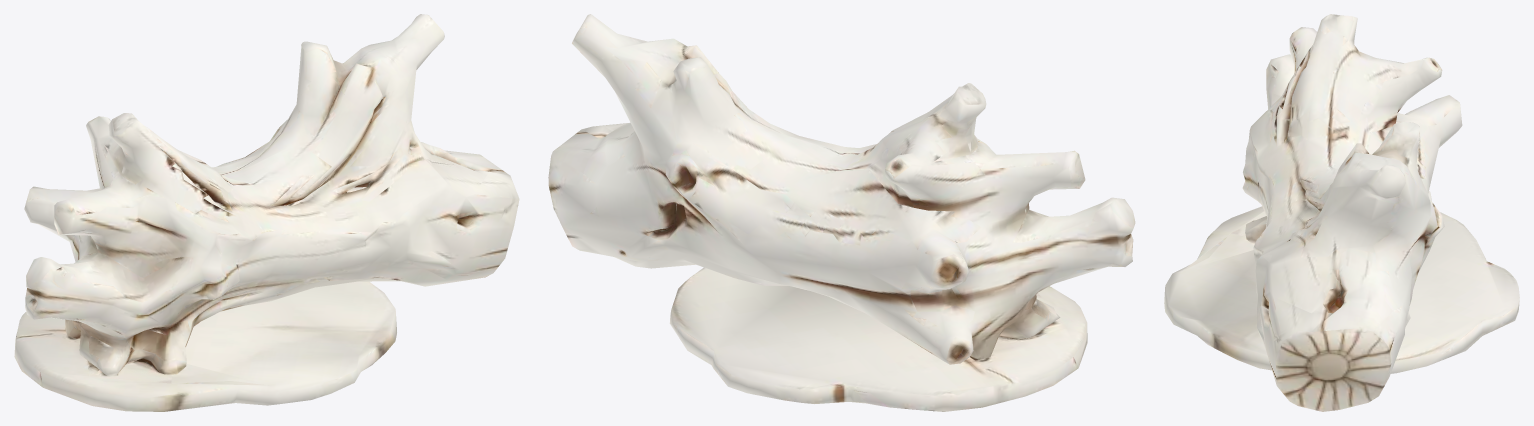
Rendered from driftwood.glb.
The picture shows the model from 3 angles, left to right: view 1: azimuth 30°, elevation 25°; view 2: azimuth 150°, elevation 25°; view 3: azimuth 270°, elevation 25°; orthographic projection. The views are drawn at different scales.
Parts seen in each view (by area): view 1: 0; view 2: 0; view 3: 0.
Part boxes in pixels (<box>): 0: <box>14,14,519,411</box>; 0: <box>548,14,1135,411</box>; 0: <box>1164,14,1519,411</box>.
Bounding box in the file's own units: 1.91 × 0.9236 × 1.19.
Materials: 1 (1 with a texture image).
